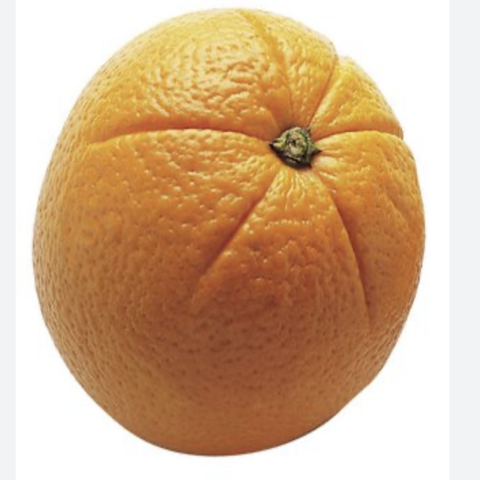orange: (18, 5, 461, 463)
